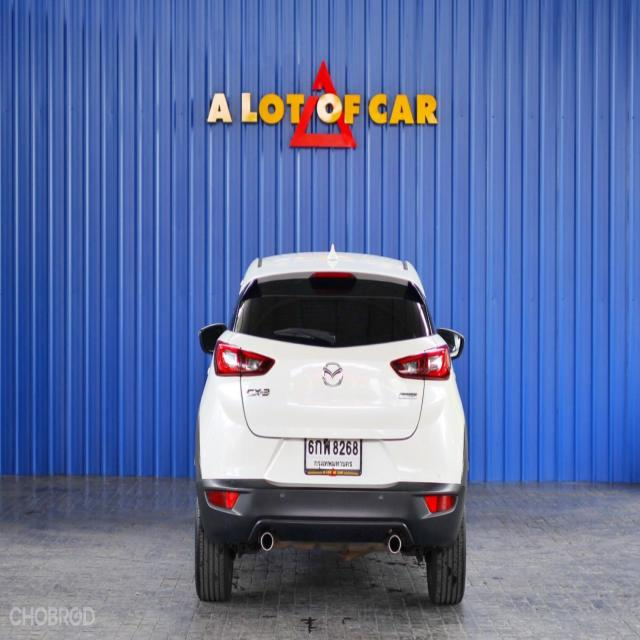license_plate: (304, 434, 364, 477)
